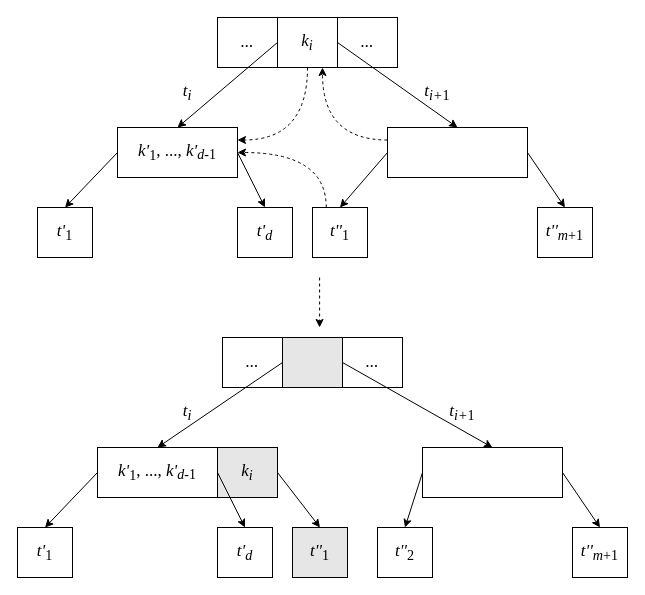
Some shapes in this 645 by 595 pixel diagram are drawn without their labels. Each missing label, with the centre of its shape:
"k'' 1" goes at [312,362].
"k'' 1 , k'' 2 , ... , k'' m" goes at [457,152].
"k'' 2 , ... , k'' m" goes at [492,472].
